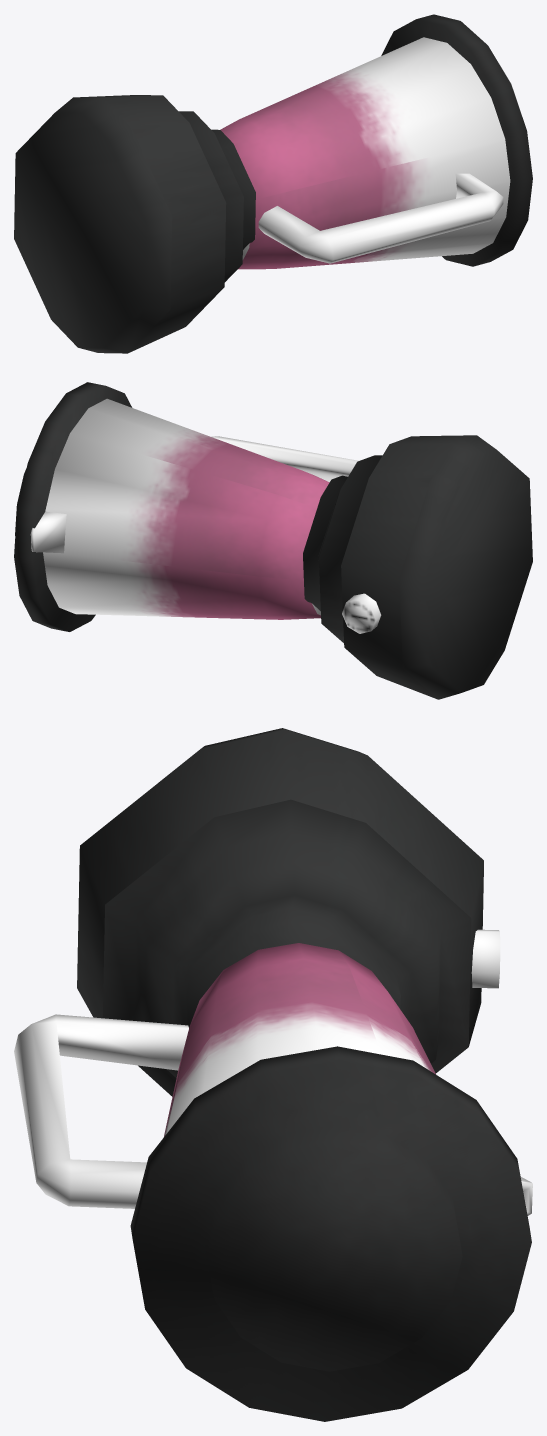
Rendered from C_Blender.fbx.
3 renders of one model, top to bottom at view 1: azimuth 30°, elevation 25°; view 2: azimuth 150°, elevation 25°; view 3: azimuth 270°, elevation 25°, orthographic. The views are drawn at different scales.
Parts seen in each view (by area): view 1: Blender; view 2: Blender; view 3: Blender.
Boxes of the visible parts, box(x1,y1,x2,y2) form: Blender: box(14, 14, 532, 353); Blender: box(14, 382, 532, 699); Blender: box(14, 728, 532, 1421).
Size of the model in its own units: 53.82 by 30.85 by 35.79.
